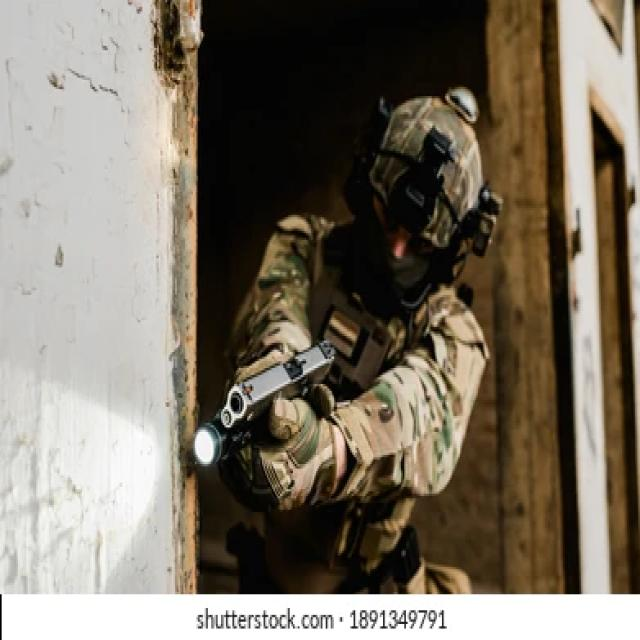soldier: (225, 84, 504, 615)
